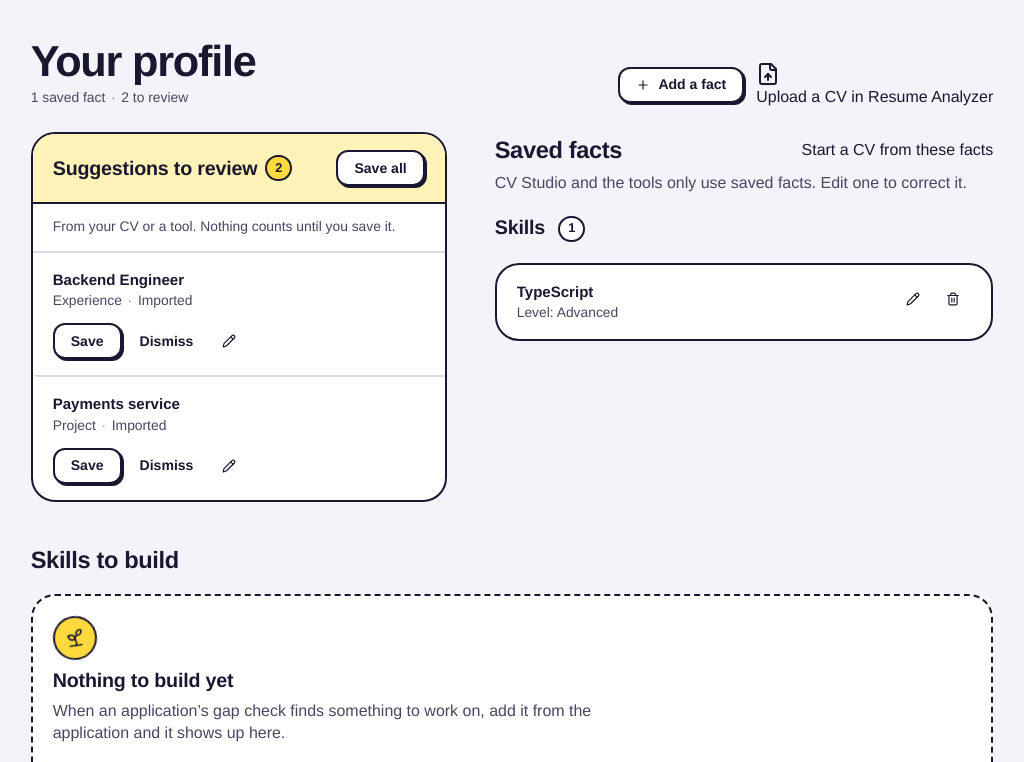
Test: EvidenceProfilePage › Save all › Undo cancels the write and brings the suggestions back
Click the button "Save all". click: (381, 168)
box: [336,150,425,186]
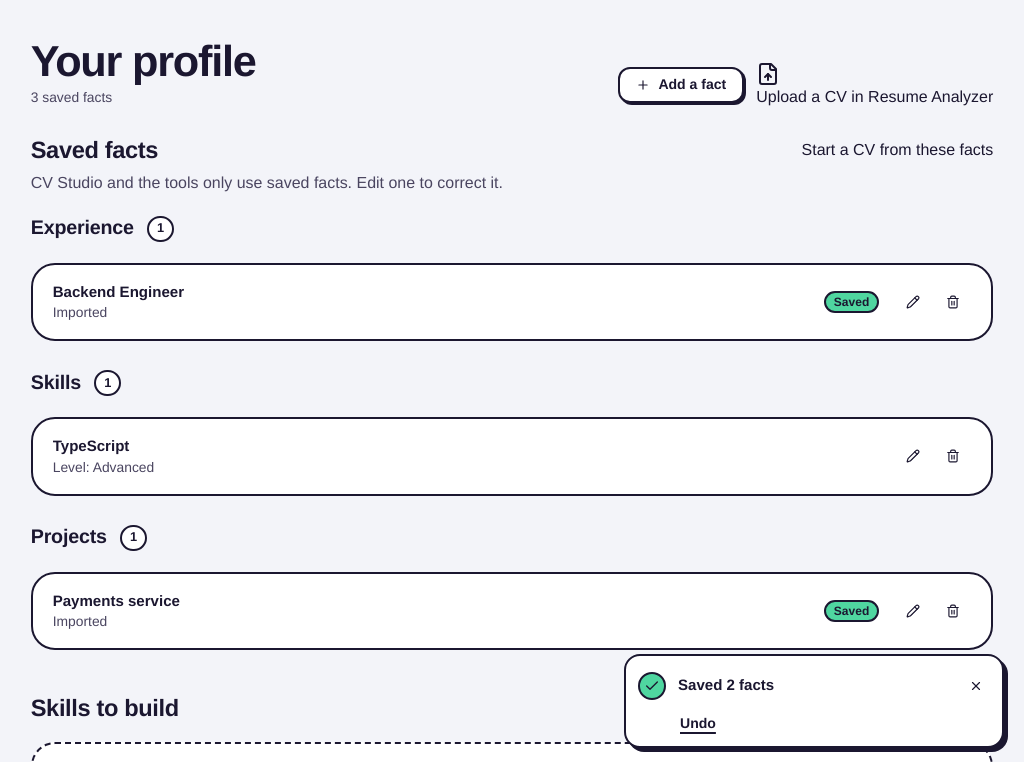
Click the button "Undo". click: (698, 723)
box: [678,712,718,734]
Wait 7000 ms
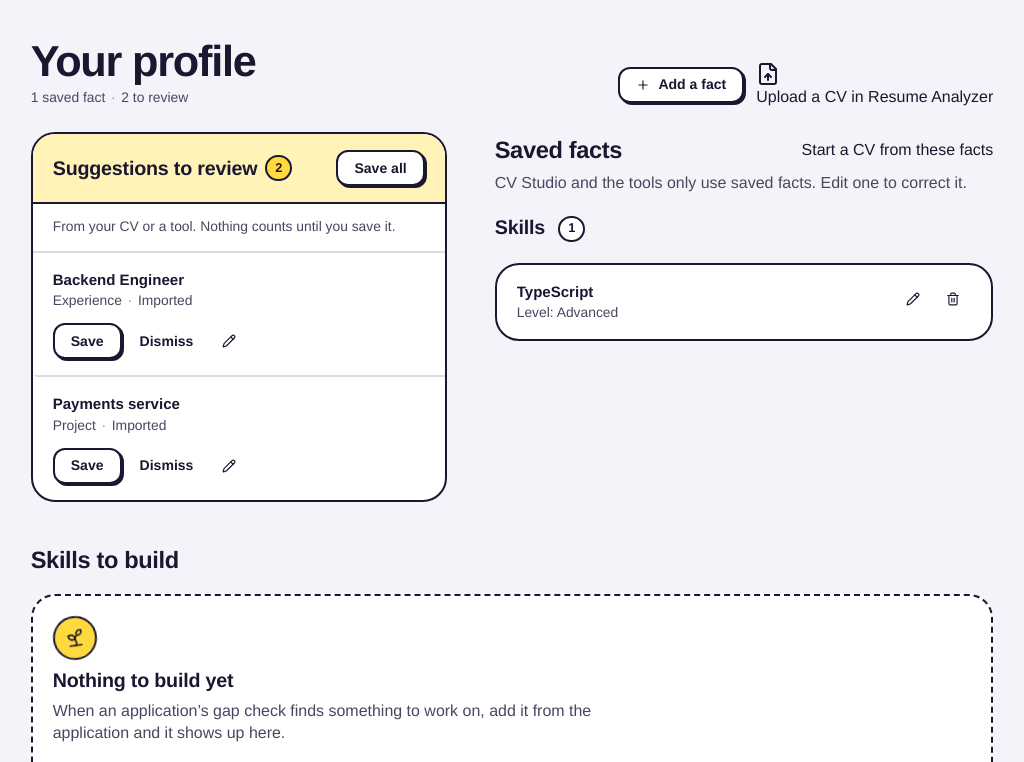
Now the list named "Suggestions to review" is shown, box [33,252,445,500]
